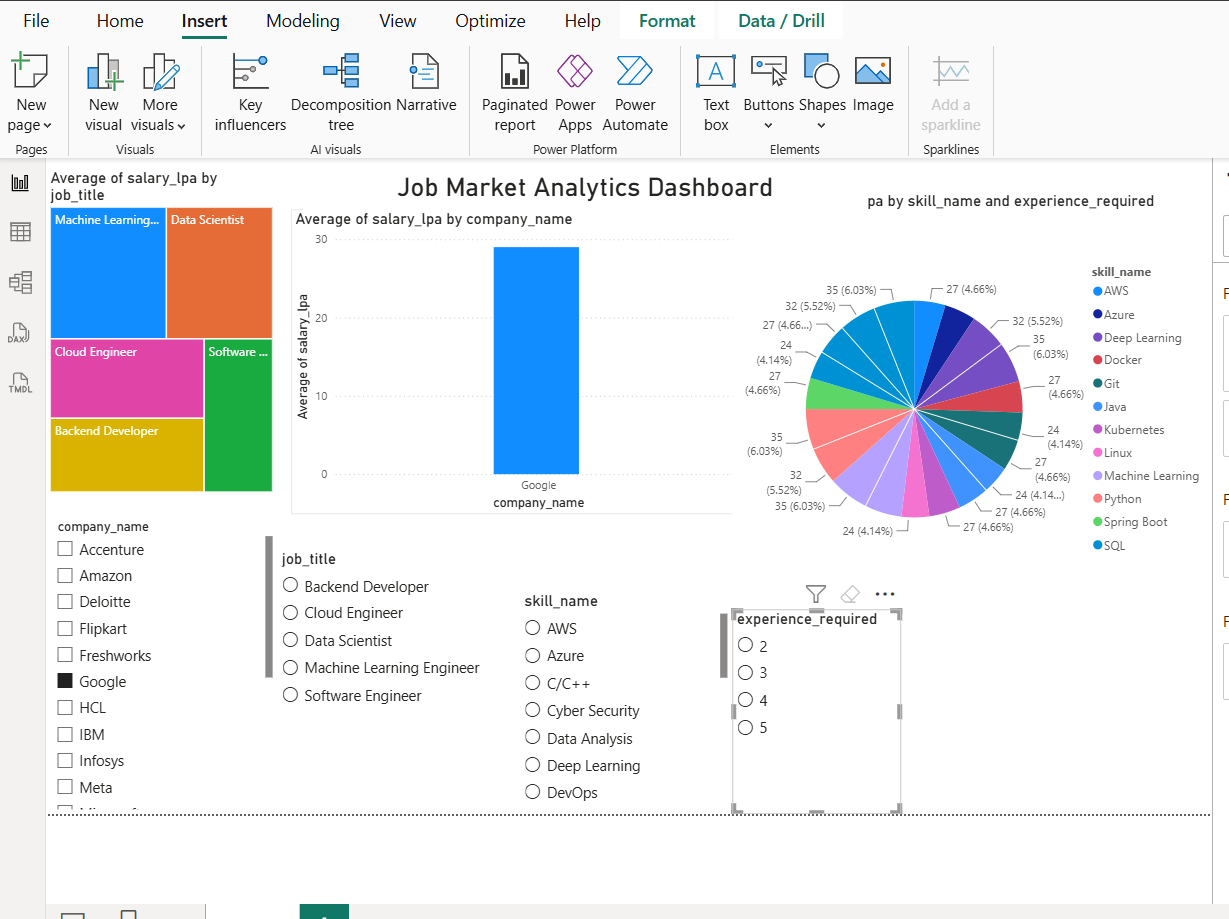

The dashboard page shown, as its layout file describes it:
{"tool":"powerbi","page":{"name":"Page 1","canvas":[1280,720],"ordinal":0},"visuals":[{"type":"columnChart","fields":{"Category":["companies.company_name"],"Y":["Avg(jobs.salary_lpa)"]},"box":[269,56.3,499.5,334.8],"z":0},{"type":"treemap","fields":{"Group":["jobs.job_title"],"Values":["Avg(jobs.salary_lpa)"]},"box":[0,11,253.9,360.9],"z":1000},{"type":"pieChart","fields":{"Y":["Avg(jobs.salary_lpa)"],"Category":["skills.skill_name"],"Series":["jobs.experience_required"]},"box":[753.3,37,526.9,458.3],"z":2000},{"type":"slicer","fields":{"Values":["companies.company_name"]},"box":[0,391.1,253.9,329.3],"z":3000},{"type":"listSlicer","fields":{"Values":["jobs.job_title"]},"box":[253.9,429.5,266.2,290.9],"z":4000},{"type":"listSlicer","fields":{"Values":["skills.skill_name"]},"box":[520.1,476.2,233.3,244.3],"z":5000},{"type":"listSlicer","fields":{"Values":["jobs.experience_required"]},"box":[753.3,495.4,185.2,225],"z":6000},{"type":"textbox","box":[282.7,9.6,618.9,49.4],"z":7000}]}

Visuals, with their boxes in screenshot pixels (x1, y1, x2, y2):
columnChart - companies.company_name x Avg(jobs.salary_lpa): l=284, t=202, r=740, b=508
treemap - jobs.job_title x Avg(jobs.salary_lpa): l=38, t=160, r=270, b=490
pieChart - Avg(jobs.salary_lpa) x skills.skill_name: l=726, t=184, r=1208, b=603
slicer - companies.company_name: l=38, t=508, r=270, b=808
listSlicer - jobs.job_title: l=270, t=543, r=513, b=808
listSlicer - skills.skill_name: l=513, t=585, r=726, b=808
listSlicer - jobs.experience_required: l=726, t=603, r=896, b=808
textbox: l=297, t=159, r=862, b=204
